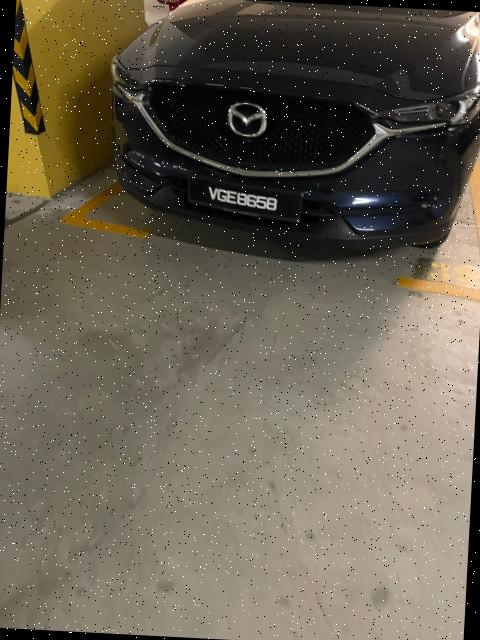License_Plate: (196, 176, 289, 222)
car: (93, 1, 477, 264)
